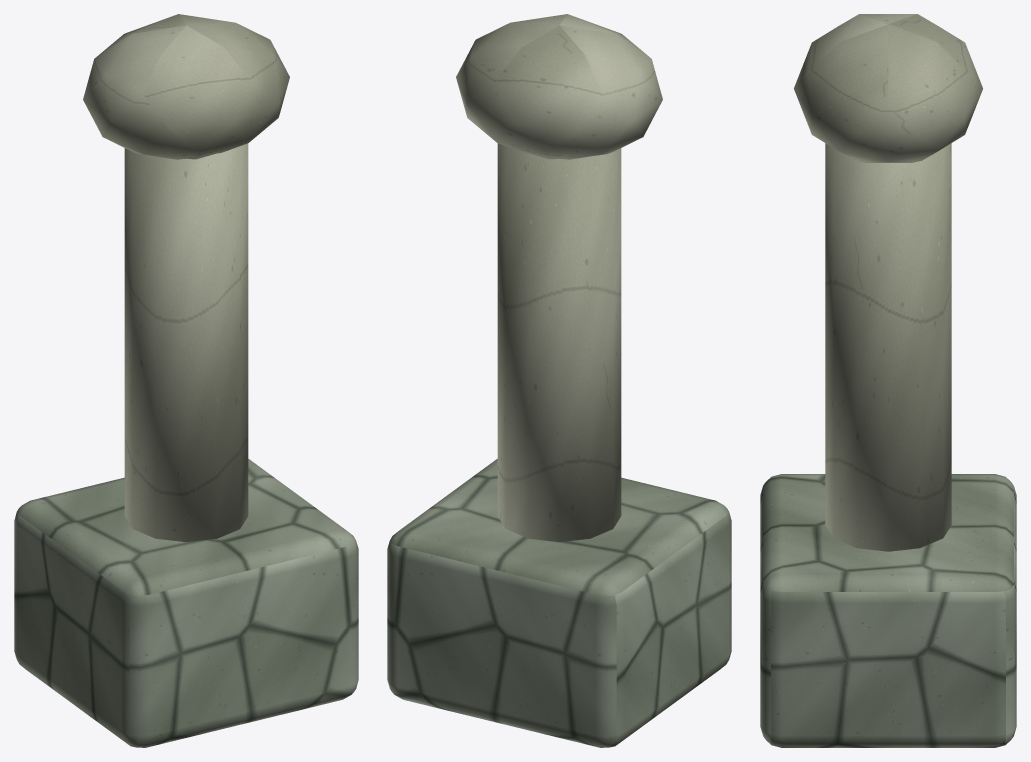
File: fountain.glb
3 views of the same model, side by side, from view 1: azimuth 30°, elevation 25°; view 2: azimuth 150°, elevation 25°; view 3: azimuth 270°, elevation 25° (orthographic). The views are drawn at different scales.
Visible parts, largest first — view 1: Fountain plinth, Fountain pillar, Fountain crown; view 2: Fountain plinth, Fountain pillar, Fountain crown; view 3: Fountain plinth, Fountain pillar, Fountain crown.
Boxes of the visible parts, x1,y1,x2,y2 form: Fountain plinth: (14, 459, 358, 747); Fountain pillar: (124, 143, 248, 542); Fountain crown: (83, 14, 289, 159); Fountain plinth: (387, 459, 731, 747); Fountain pillar: (497, 143, 621, 542); Fountain crown: (456, 14, 662, 159); Fountain plinth: (760, 474, 1016, 747); Fountain pillar: (825, 143, 951, 551); Fountain crown: (794, 14, 982, 162).
Size of the model in its own units: 0.7 by 1.88 by 0.65.
Materials: 3 (3 with a texture image).
